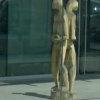Statue: (38, 1, 88, 100)
